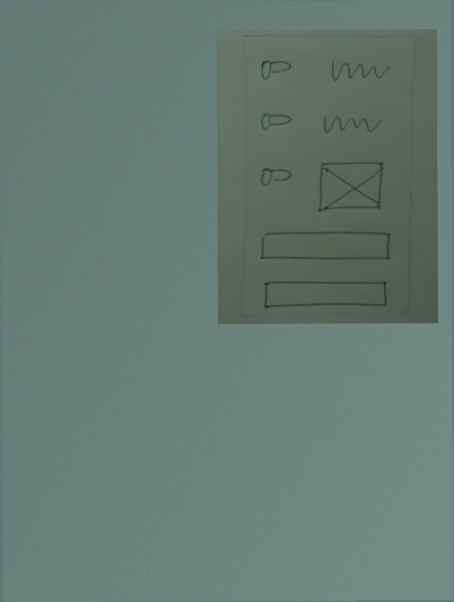image: (314, 158, 387, 215)
switch: (257, 55, 293, 85), (259, 105, 294, 135), (258, 161, 293, 191)
text: (319, 109, 384, 139), (327, 57, 392, 86)
text_input: (258, 229, 394, 266), (260, 278, 390, 310)
